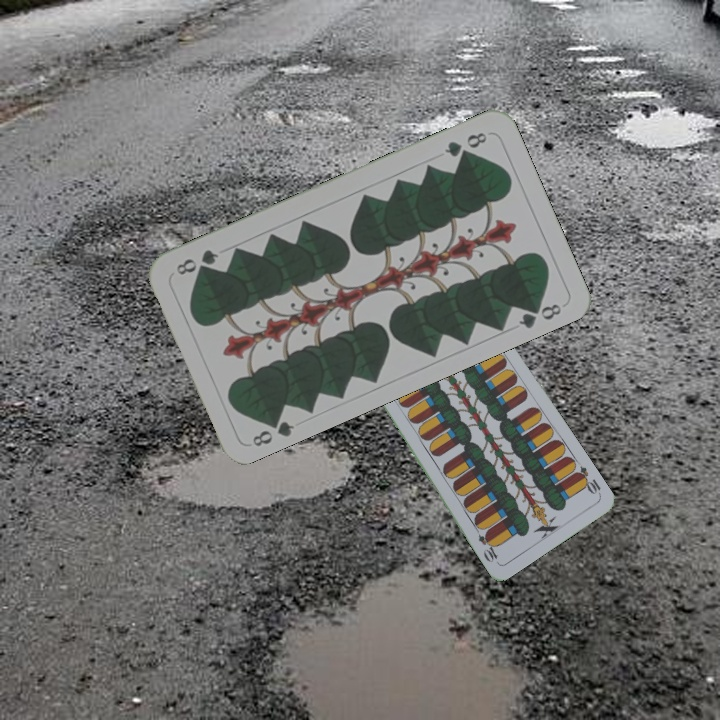E10: (571, 462, 603, 498)
G8: (248, 411, 297, 450), (440, 128, 490, 160)
